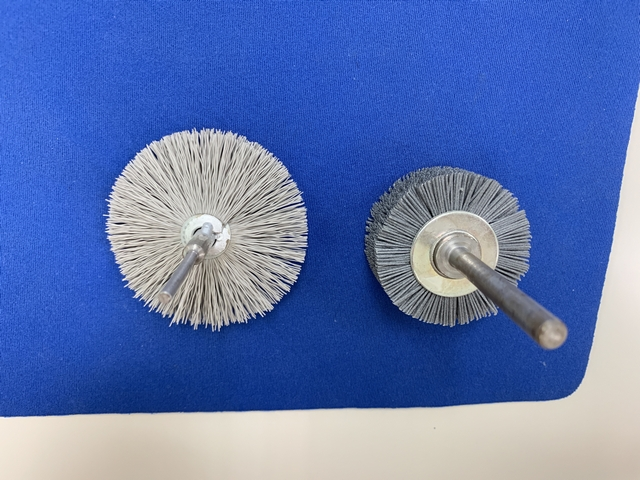TOOL: (101, 126, 314, 335), (147, 128, 325, 345), (101, 122, 247, 331), (106, 126, 309, 274), (105, 204, 311, 339)
Wheel Brush: (357, 156, 578, 360), (417, 160, 570, 354), (348, 149, 554, 284), (356, 152, 496, 341)
